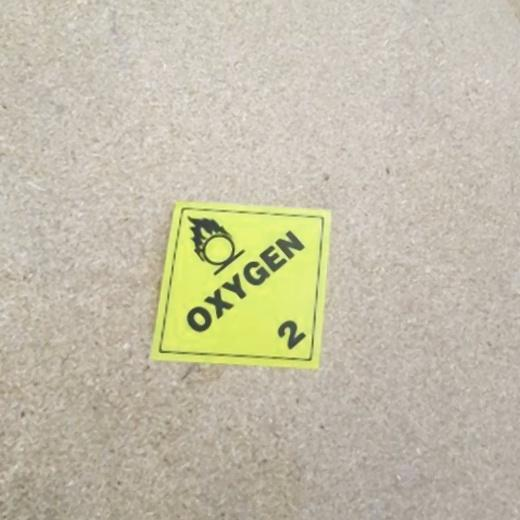oxidizer: (145, 199, 332, 371)
